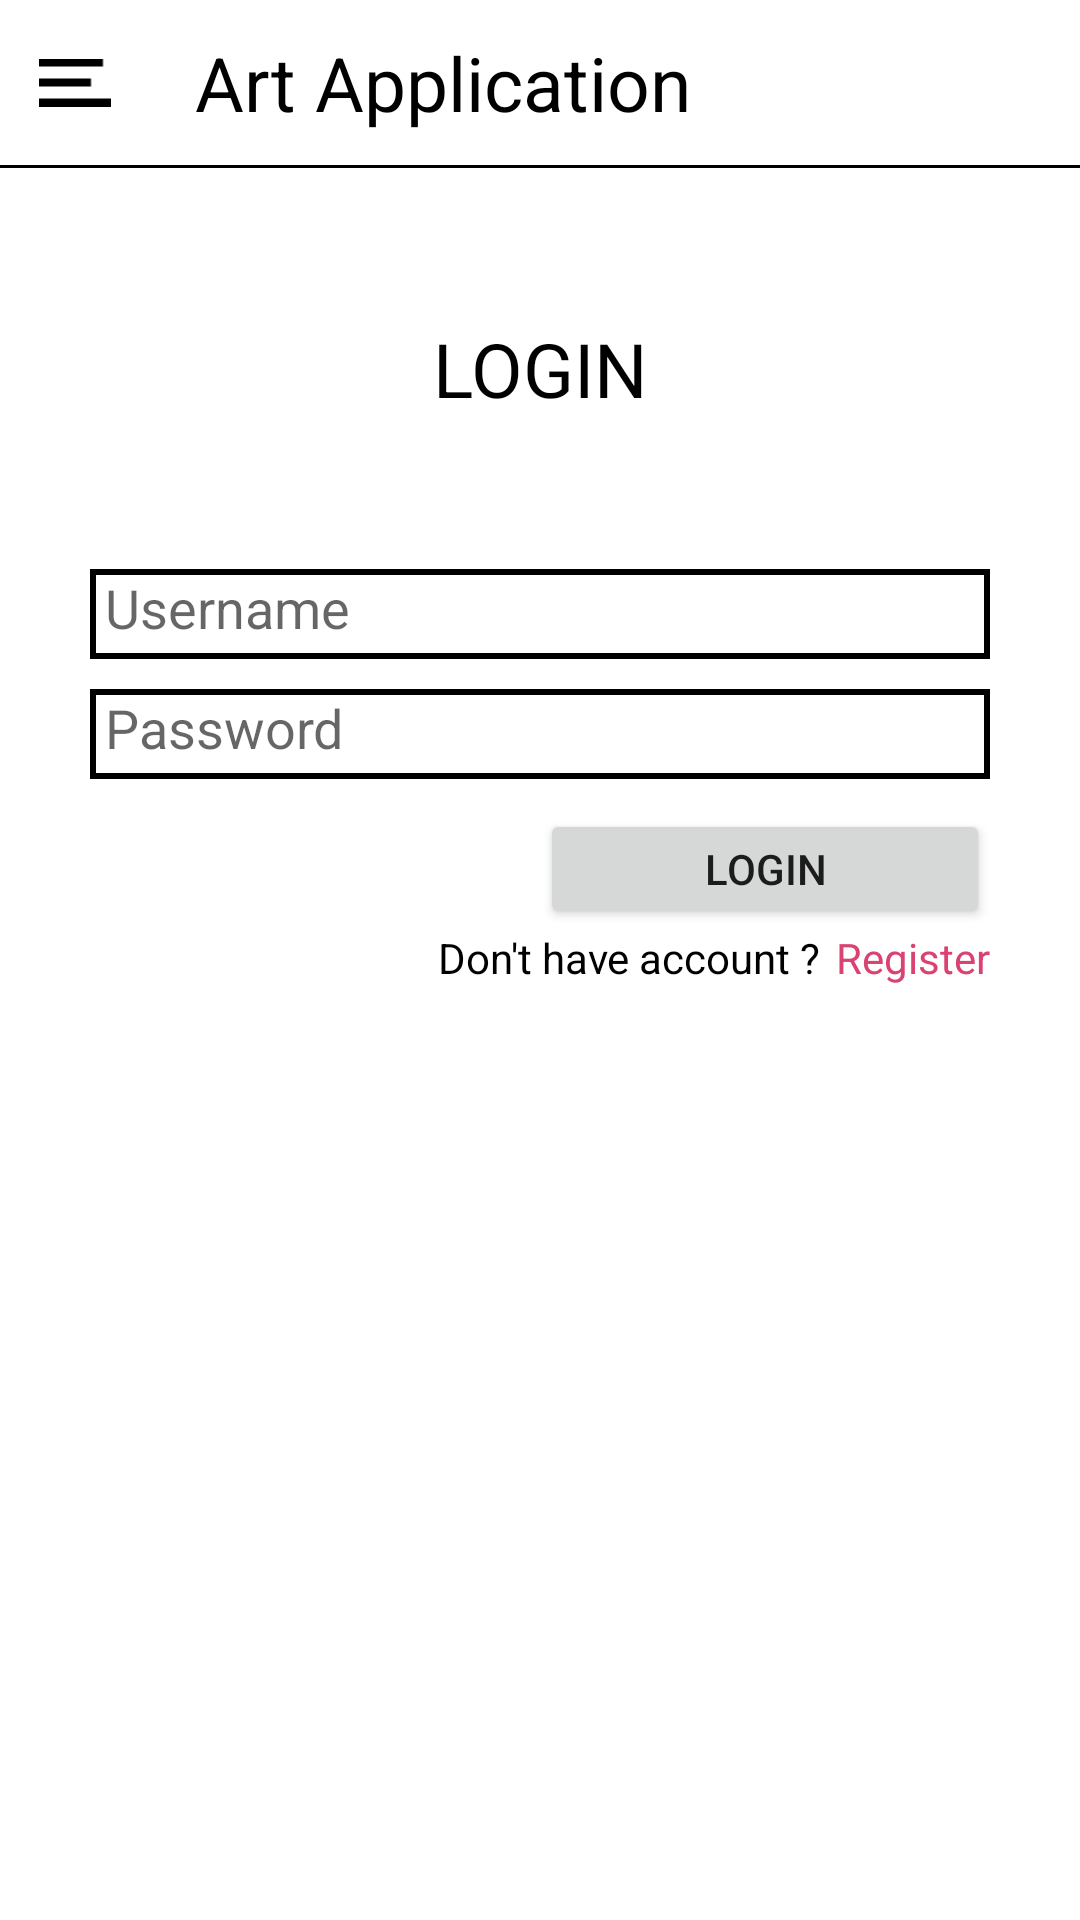

Where to tap for icons on this 1080w x 1920h app screen, as point (x, y):
menu: point (75, 83)
